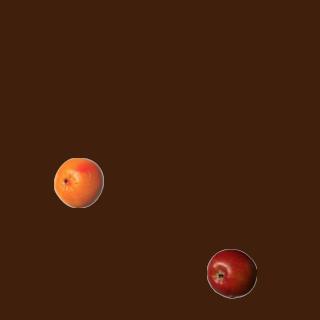Apple Braeburn: (206, 248, 256, 298)
Grapefruit Pink: (53, 157, 103, 207)
